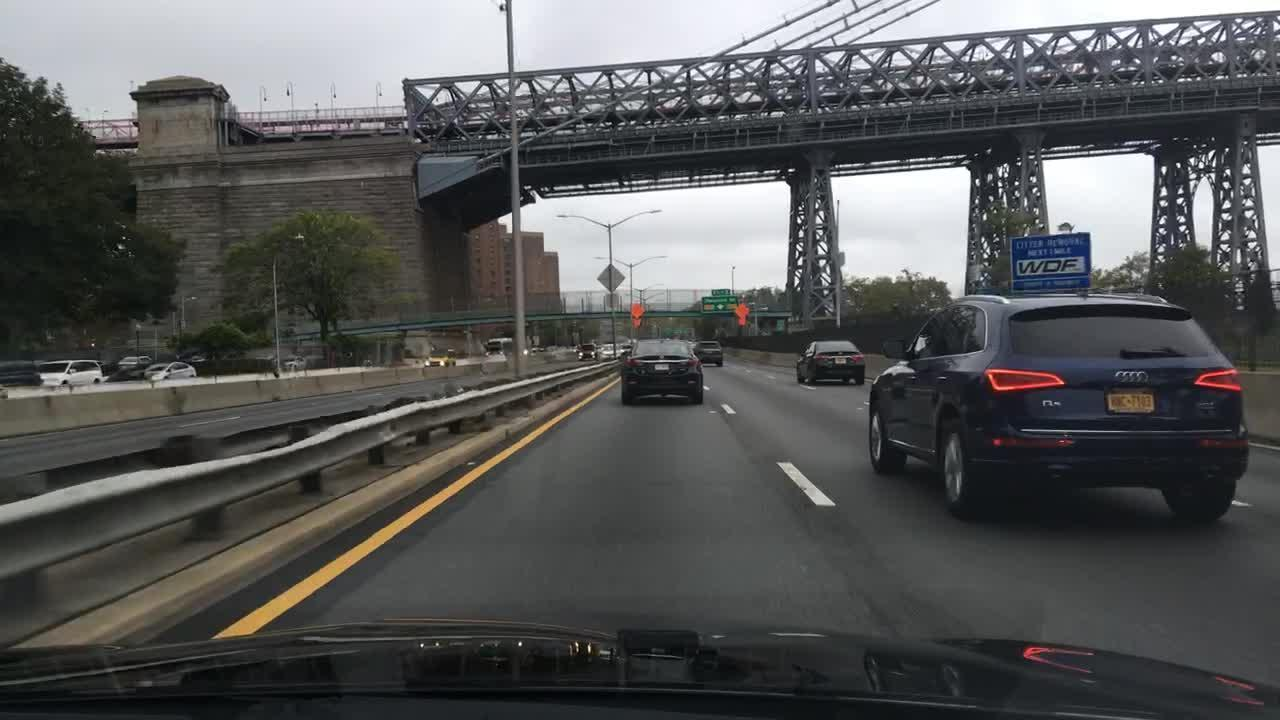Audi: (1107, 364, 1156, 393)
